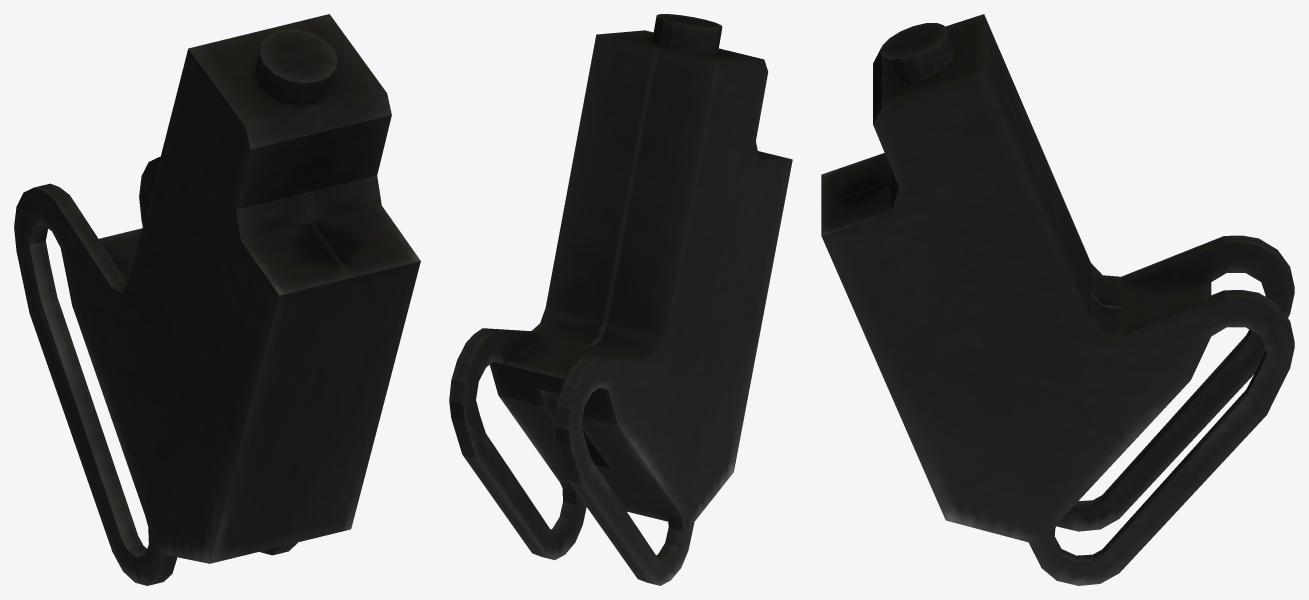
3 views of the same model, side by side, from view 1: azimuth 30°, elevation 25°; view 2: azimuth 150°, elevation 25°; view 3: azimuth 270°, elevation 25° (orthographic). The views are drawn at different scales.
Visible parts, largest first — view 1: TW_5fb64bc92b1b027b1f50bcf2_PZ_Import; view 2: TW_5fb64bc92b1b027b1f50bcf2_PZ_Import; view 3: TW_5fb64bc92b1b027b1f50bcf2_PZ_Import.
Boxes of the visible parts, x1,y1,x2,y2 form: TW_5fb64bc92b1b027b1f50bcf2_PZ_Import: (14, 14, 420, 585); TW_5fb64bc92b1b027b1f50bcf2_PZ_Import: (449, 14, 792, 585); TW_5fb64bc92b1b027b1f50bcf2_PZ_Import: (821, 14, 1294, 585).
Bounding box in the file's own units: 0.0124 × 0.0405 × 0.0496.
1 material, 1 textured.
